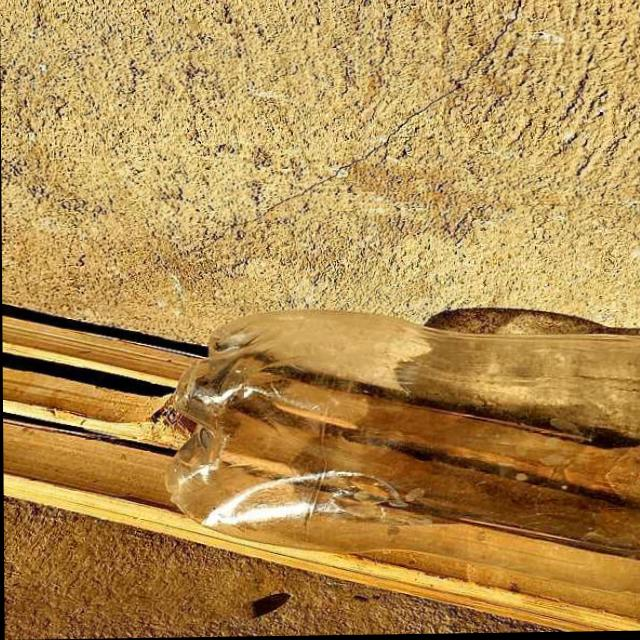Non-biodegradable: (165, 307, 640, 611)
